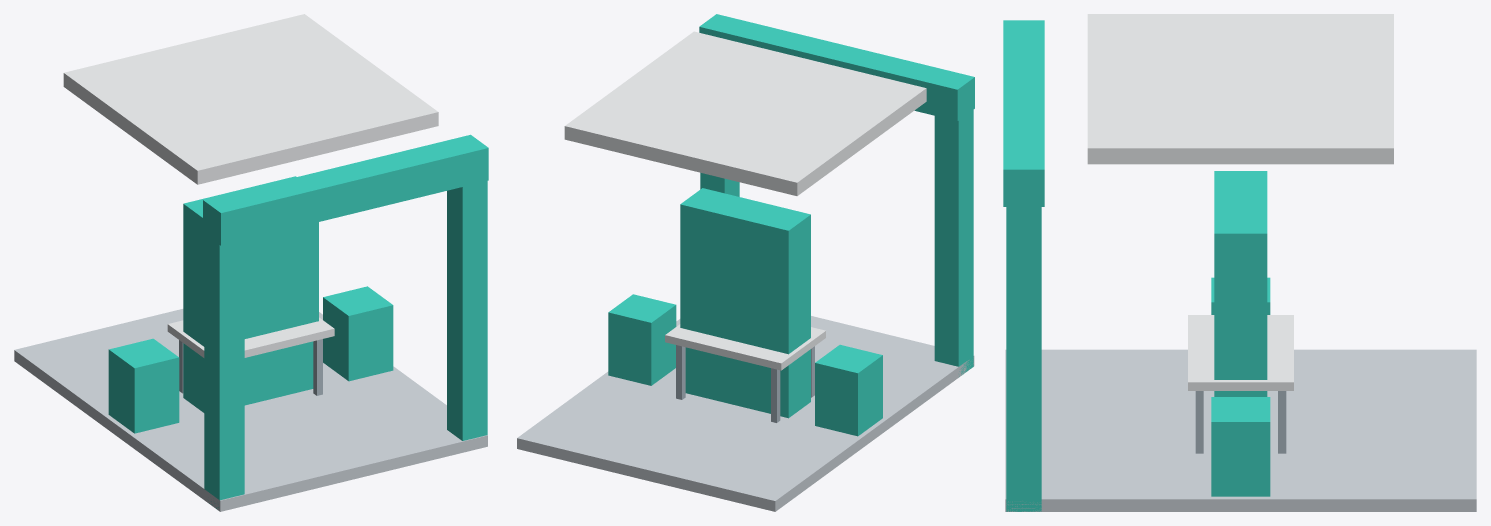
3 views of the same model, side by side, from view 1: azimuth 30°, elevation 25°; view 2: azimuth 150°, elevation 25°; view 3: azimuth 270°, elevation 25° (orthographic). The views are drawn at different scales.
Parts seen in each view (by area): view 1: Exhibition Booth Concept; view 2: Exhibition Booth Concept; view 3: Exhibition Booth Concept.
Part boxes in pixels (x1,y1,x2,y2): Exhibition Booth Concept: [14, 14, 488, 511]; Exhibition Booth Concept: [517, 14, 974, 511]; Exhibition Booth Concept: [1003, 14, 1476, 511].
Bounding box in the file's own units: 3 × 3.34 × 4.02.
